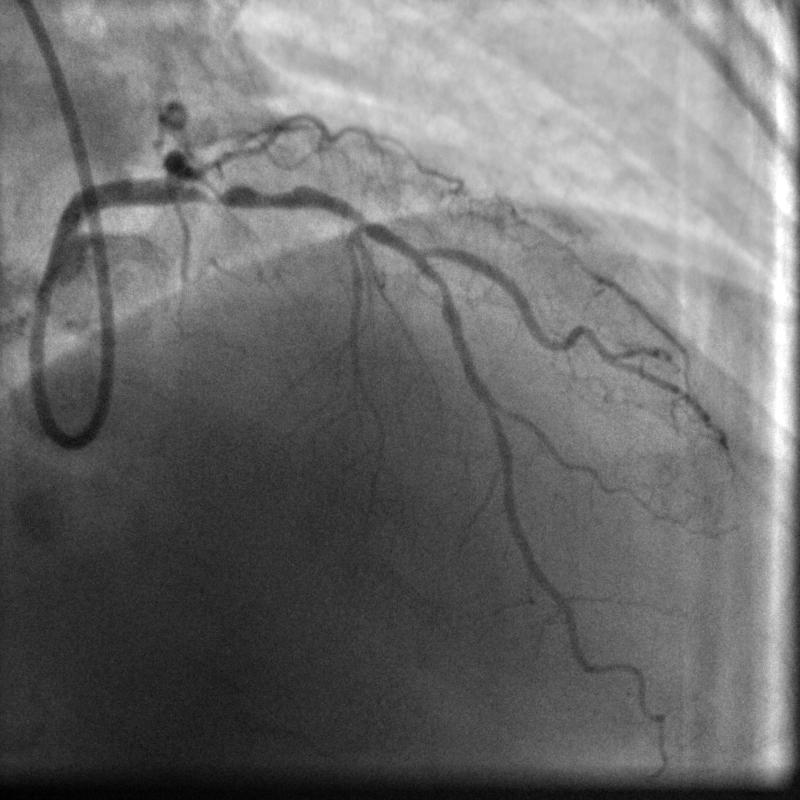Stenosis: (198, 175, 296, 208)
